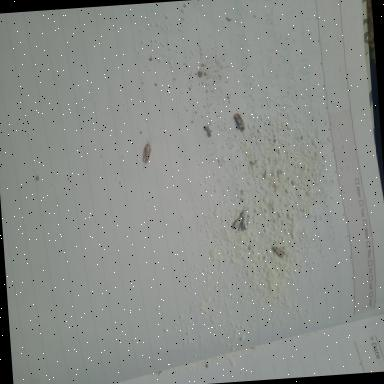pbw: (140, 139, 154, 172), (234, 112, 244, 132), (272, 246, 286, 260)
